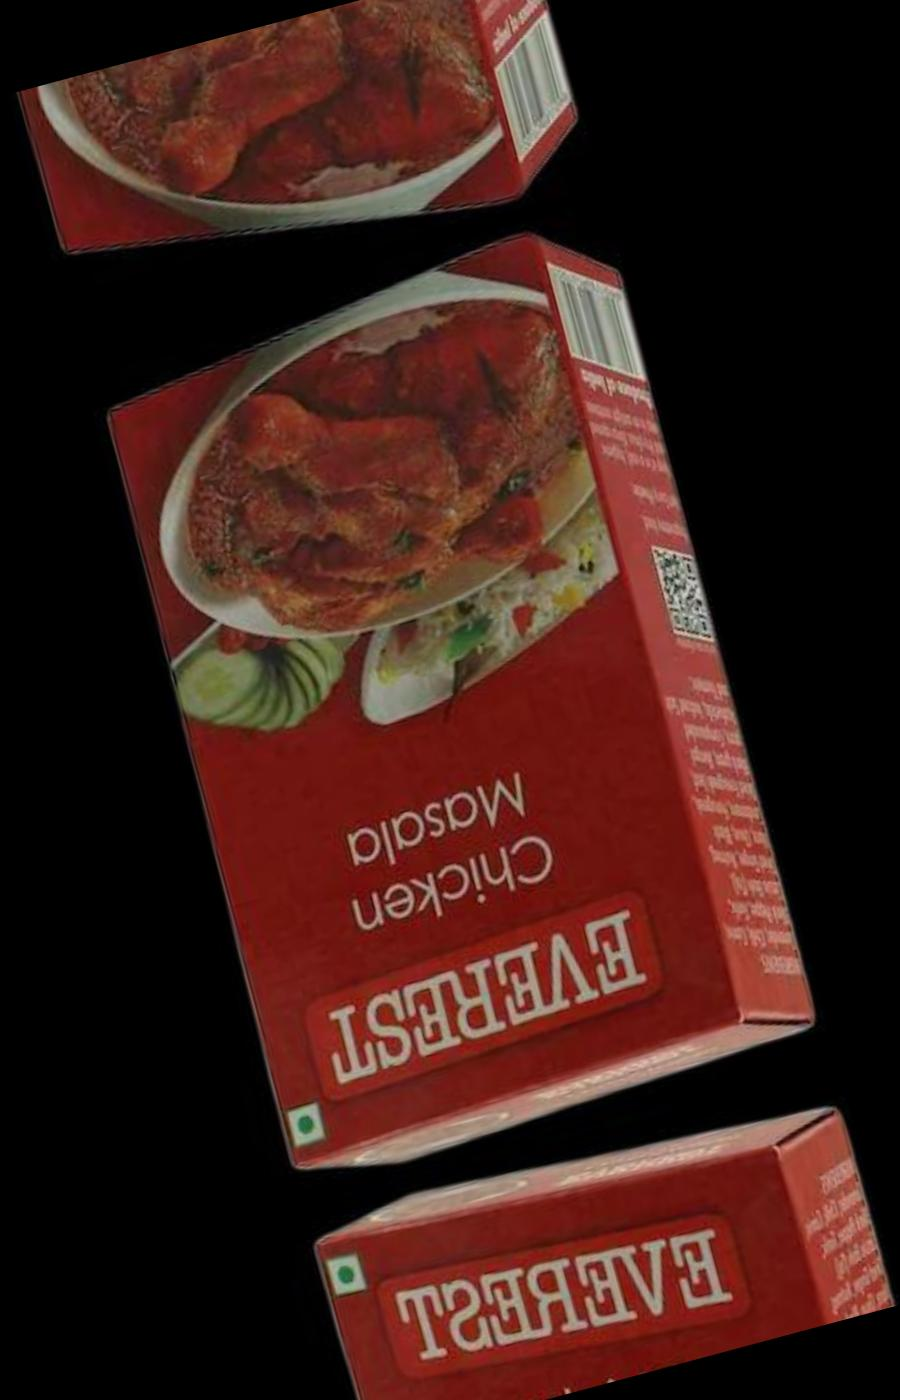Everest Chicken Masala 100 g: (61, 207, 837, 1200), (292, 1070, 900, 1400), (0, 0, 602, 324)
